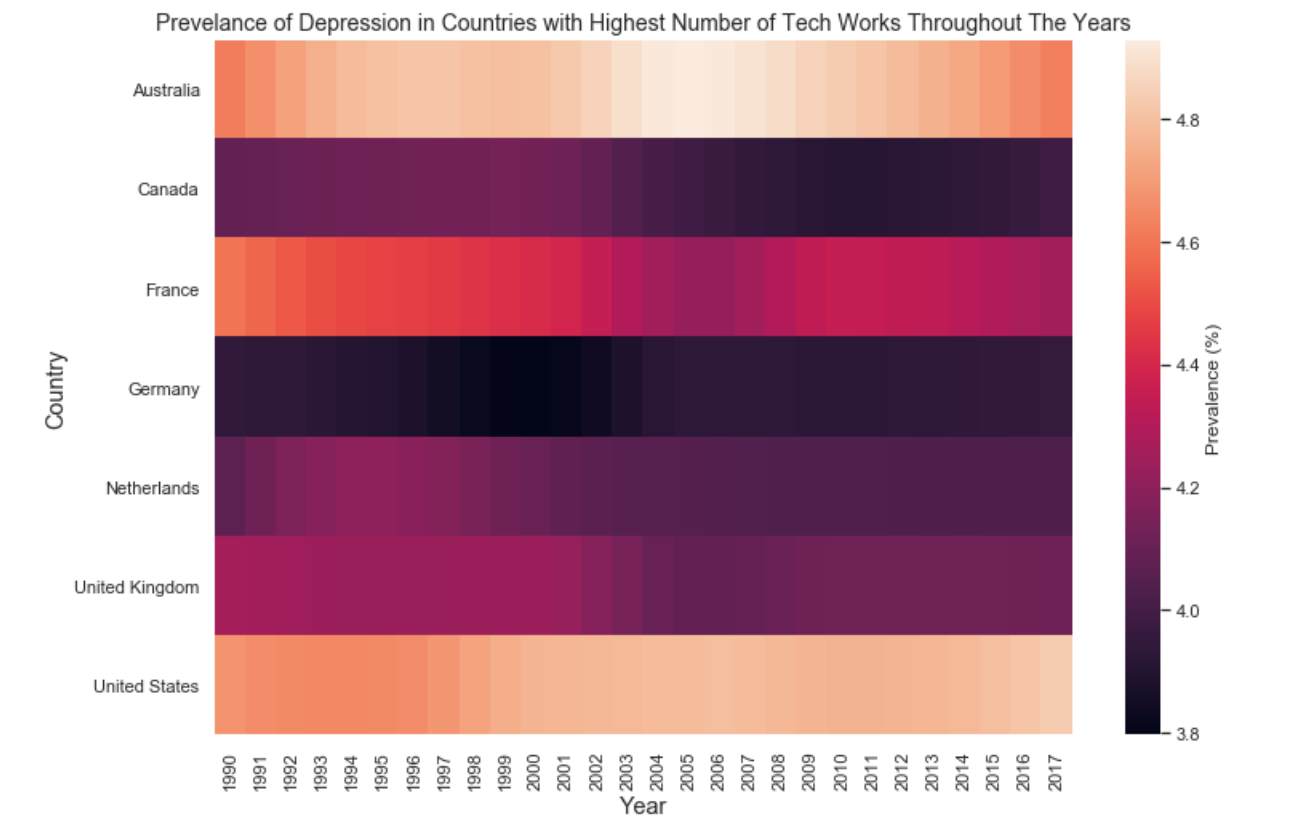

Layout of this report page (visuals, bound fields, positions):
{"tool":"tableau","page":{"name":"Dashboard 1","canvas":[1000,800],"ordinal":0},"visuals":[{"type":"worksheet","title":"Sheet 4","mark":"Automatic","box":[8,8,824,784]},{"type":"legend","title":"Sheet 4","param":"[federated.0pt2vkq0hfuvb31849lue0dyv85i].[sum:prevalence:qk]","box":[832,8,160,65]}]}

Visuals, with their boxes on the page's 1000x800 design canvas (x1, y1, x2, y2). These are canvas units, not pixel positions in the 1290x840 screenshot, which may show the page scaled, cropped or inside an application window:
"Sheet 4" worksheet: {"x1": 8, "y1": 8, "x2": 832, "y2": 792}
"Sheet 4" legend: {"x1": 832, "y1": 8, "x2": 992, "y2": 73}
